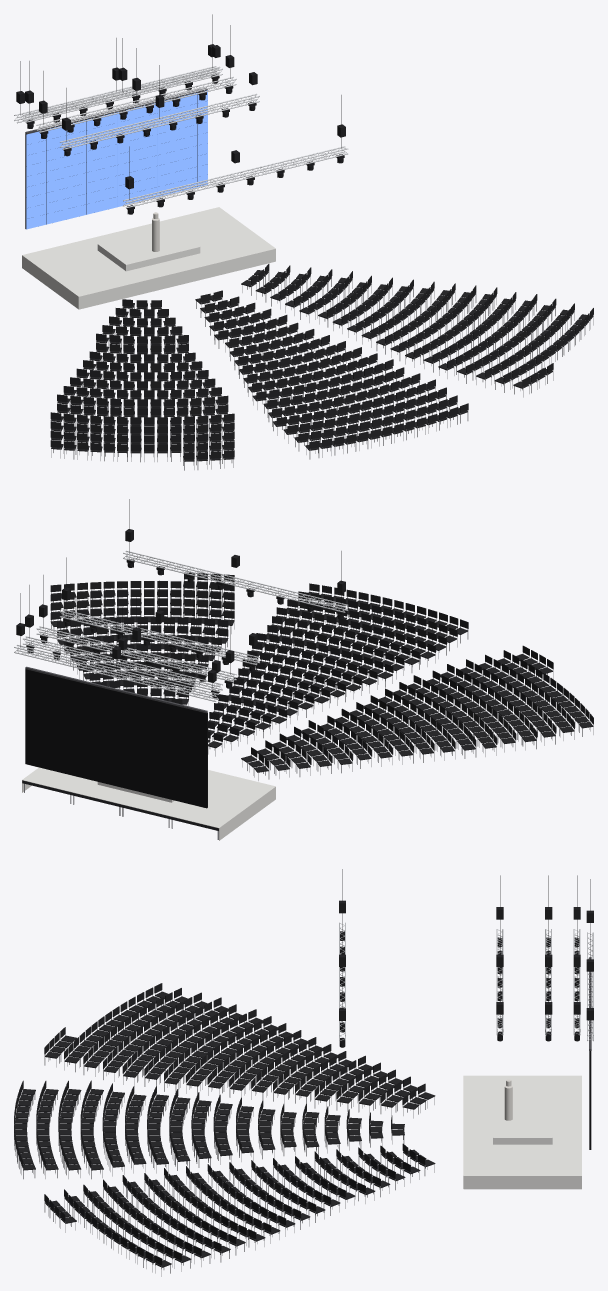
The model's file is conversation.glb.
The picture shows the model from 3 angles, top to bottom: view 1: azimuth 30°, elevation 25°; view 2: azimuth 150°, elevation 25°; view 3: azimuth 270°, elevation 25°; orthographic projection. The views are drawn at different scales.
Parts seen in each view (by area): view 1: FASCIA.MAIN.FRONT, FASCIA.MAIN.LEFT.1, DECK.R01C04, DECK.R03C01, DECK.R04C01, DECK.R01C01, DECK.R02C01, DECK.R02C04, DECK.R03C04, DECK.R04C04, DECK.R01C02, DECK.R01C03 (+2 smaller); view 2: DECK.R04C01, DECK.R04C04, DECK.R04C03, DECK.R04C02, FASCIA.MAIN.LEFT.1, DECK.R01C01, DECK.R02C01, DECK.R03C01, TRUSS.FOH.S03, TRUSS.HDR_MAIN.S04, TRUSS.HDR_MAIN.S03, TRUSS.FOH.S02 (+4 smaller); view 3: FASCIA.MAIN.RIGHT.2, DECK.R01C04, DECK.R01C01, DECK.R01C03, DECK.R02C04, DECK.R04C01, DECK.R04C04, DECK.R01C02, DECK.R03C04, DECK.R04C02, DECK.R04C03, DECK.R03C01 (+3 smaller).
Part boxes in pixels (<box>): FASCIA.MAIN.FRONT: <box>79,248,275,309</box>; FASCIA.MAIN.LEFT.1: <box>22,255,78,309</box>; DECK.R01C04: <box>212,238,275,260</box>; DECK.R03C01: <box>36,253,99,275</box>; DECK.R04C01: <box>22,243,85,265</box>; DECK.R01C01: <box>65,274,127,296</box>; DECK.R02C01: <box>51,264,113,285</box>; DECK.R02C04: <box>198,228,260,249</box>; DECK.R03C04: <box>184,217,246,239</box>; DECK.R04C04: <box>170,207,232,229</box>; DECK.R01C02: <box>114,262,176,284</box>; DECK.R01C03: <box>164,250,225,272</box>; DECK.R04C01: <box>169,805,232,830</box>; DECK.R04C04: <box>22,769,84,794</box>; DECK.R04C03: <box>71,781,134,806</box>; DECK.R04C02: <box>120,794,183,818</box>; FASCIA.MAIN.LEFT.1: <box>219,786,275,840</box>; DECK.R01C01: <box>212,774,275,796</box>; DECK.R02C01: <box>208,785,260,807</box>; DECK.R03C01: <box>184,797,246,817</box>; TRUSS.FOH.S03: <box>183,565,246,588</box>; TRUSS.HDR_MAIN.S04: <box>14,644,77,667</box>; TRUSS.HDR_MAIN.S03: <box>74,659,137,682</box>; TRUSS.FOH.S02: <box>244,580,307,602</box>; FASCIA.MAIN.RIGHT.2: <box>463,1175,581,1189</box>; DECK.R01C04: <box>463,1150,493,1175</box>; DECK.R01C01: <box>463,1075,493,1100</box>; DECK.R01C03: <box>463,1125,493,1150</box>; DECK.R02C04: <box>493,1150,522,1175</box>; DECK.R04C01: <box>552,1075,581,1100</box>; DECK.R04C04: <box>552,1150,581,1175</box>; DECK.R01C02: <box>463,1100,492,1125</box>; DECK.R03C04: <box>523,1150,552,1175</box>; DECK.R04C02: <box>552,1100,581,1125</box>; DECK.R04C03: <box>552,1125,581,1150</box>; DECK.R03C01: <box>523,1075,552,1100</box>.
Size of the model in its own units: 26.92 by 9.84 by 23.92.
